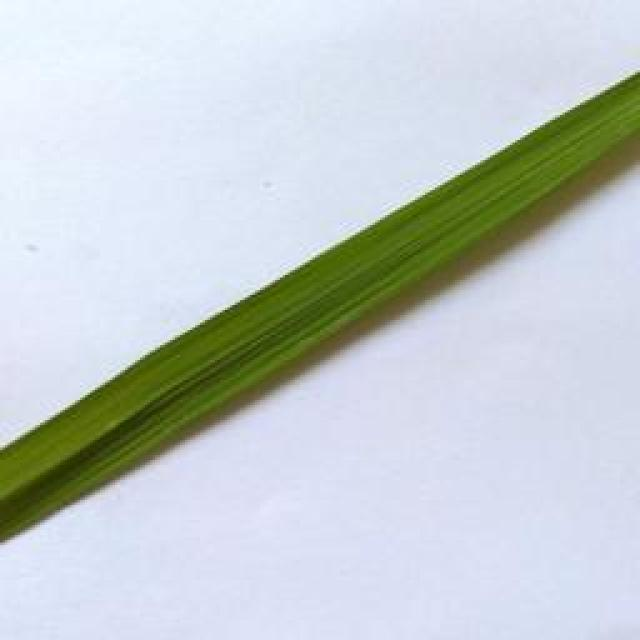Healthy-Plant: (0, 78, 640, 545)
